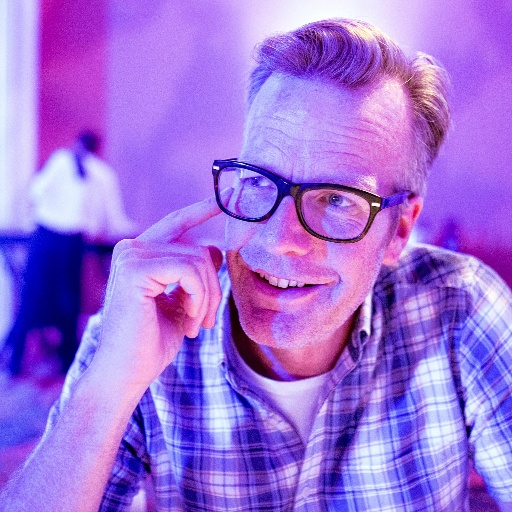hand: (47, 205, 271, 500)
